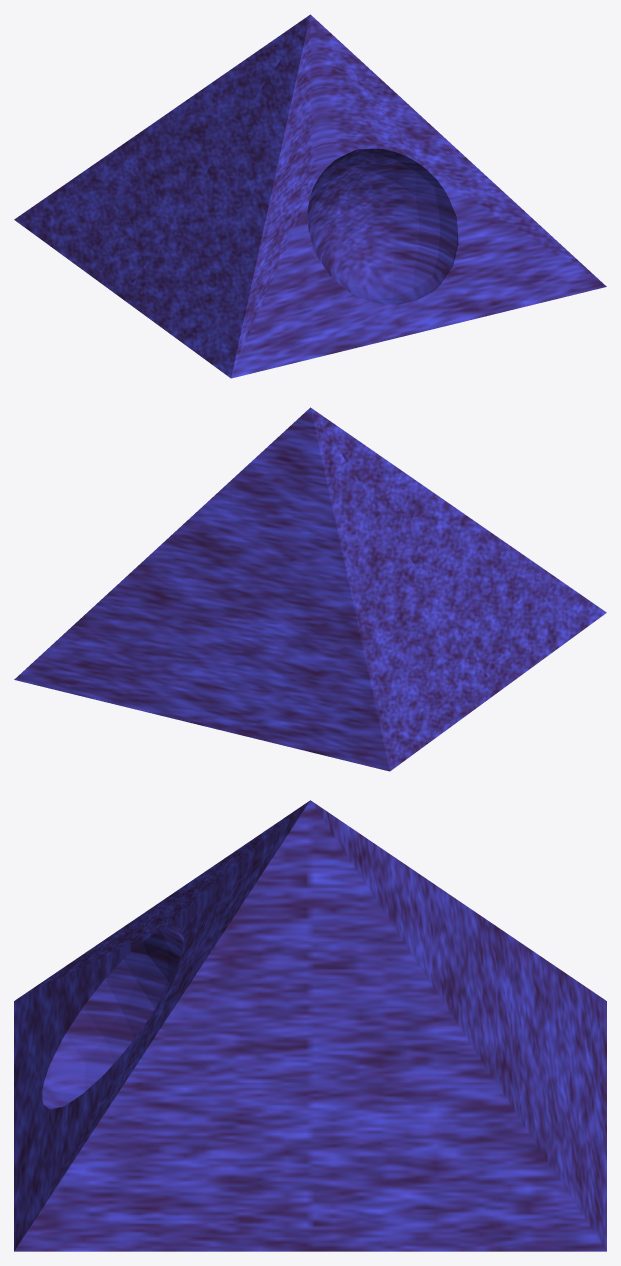
3 views of the same model, one above another, from view 1: azimuth 30°, elevation 25°; view 2: azimuth 150°, elevation 25°; view 3: azimuth 270°, elevation 25° (orthographic). The views are drawn at different scales.
Visible parts, largest first — view 1: geometry_0; view 2: geometry_0; view 3: geometry_0.
Part boxes in pixels (bbox=[...]): geometry_0: bbox=[14, 14, 606, 378]; geometry_0: bbox=[14, 407, 606, 771]; geometry_0: bbox=[14, 800, 606, 1251].
Size of the model in its own units: 1.15 by 0.6959 by 1.15.
Materials: 1 (1 with a texture image).
